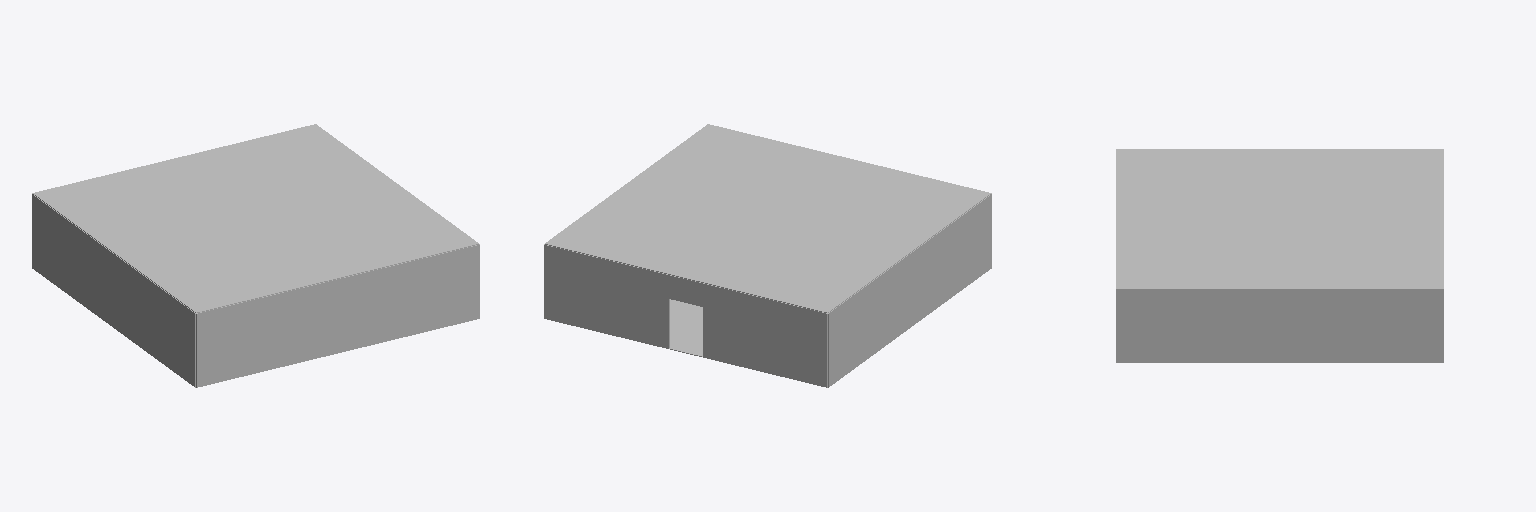
Rendered from room1.obj.
3 renders of one model, left to right at view 1: azimuth 30°, elevation 25°; view 2: azimuth 150°, elevation 25°; view 3: azimuth 270°, elevation 25°, orthographic.
Parts seen in each view (by area): view 1: Floor.001_Cube.006, Wall_3_Cube.003, Wall_1_Cube.001; view 2: Floor.001_Cube.006, Wall_1_Cube.001, Wall_4.1_Cube.007, Wall_4.2_Cube.008, Floor_Cube.004, Wall_4.3_Cube.009; view 3: Floor.001_Cube.006, Wall_2_Cube.002.
Part boxes in pixels (x1,y1,x2,y2): Floor.001_Cube.006: (33,124,478,312); Wall_3_Cube.003: (196,244,479,387); Wall_1_Cube.001: (32,194,195,387); Floor.001_Cube.006: (545,124,990,312); Wall_1_Cube.001: (828,194,991,387); Wall_4.1_Cube.007: (544,244,669,348); Wall_4.2_Cube.008: (703,283,827,387); Floor_Cube.004: (669,299,702,356); Wall_4.3_Cube.009: (669,275,702,306); Floor.001_Cube.006: (1116,149,1443,287); Wall_2_Cube.002: (1116,288,1443,362).
Bounding box in the file's own units: 100 × 25.38 × 100.